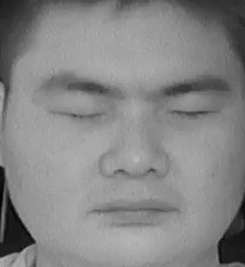blink: (170, 97, 220, 131), (56, 100, 108, 132)
mouth: (91, 190, 180, 234)
